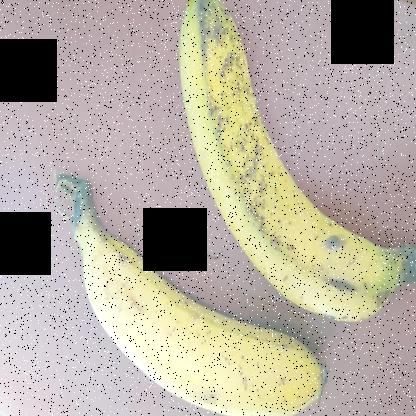ripe: (144, 1, 401, 329), (69, 231, 323, 415)
